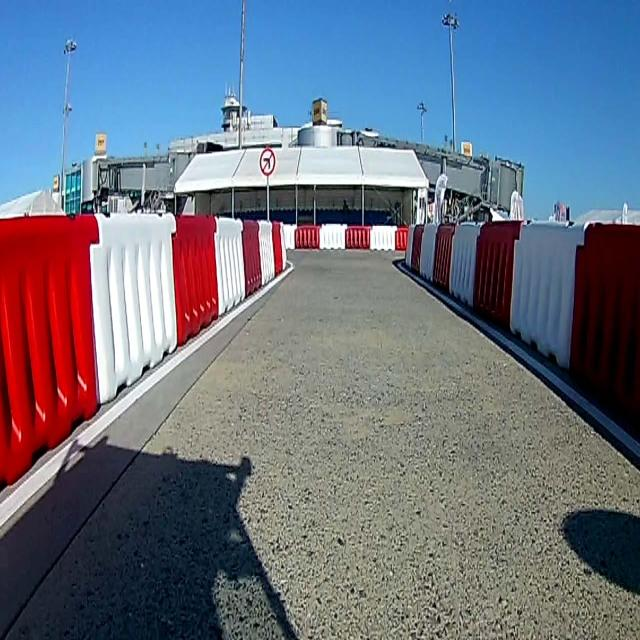soladonulmez: (260, 148, 275, 176)
